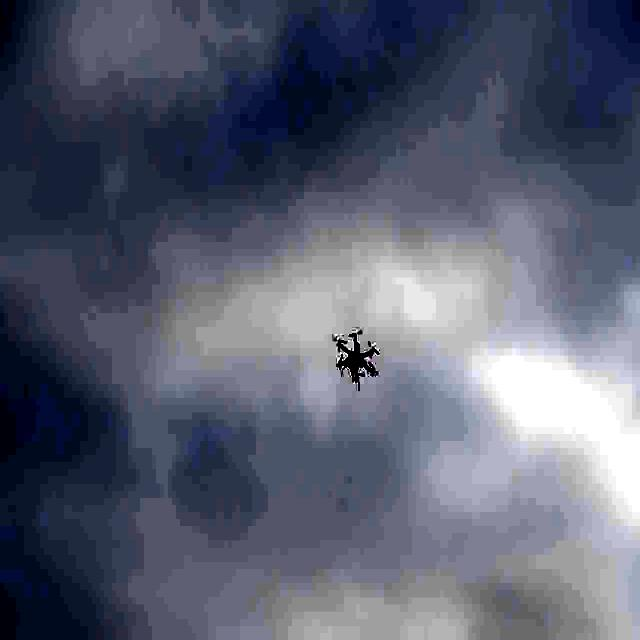drone: (335, 322, 379, 392)
